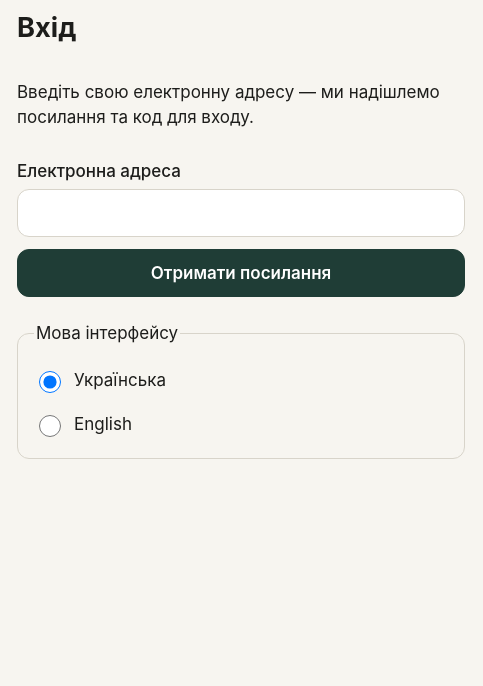
Test: sign-in › shows a localized error for a wrong code
The width and height of the screenshot is (483, 686).
Type "expert@example.com" into the field labelled "Електронна адреса" at {"x": 241, "y": 213}, box [17, 189, 465, 237]
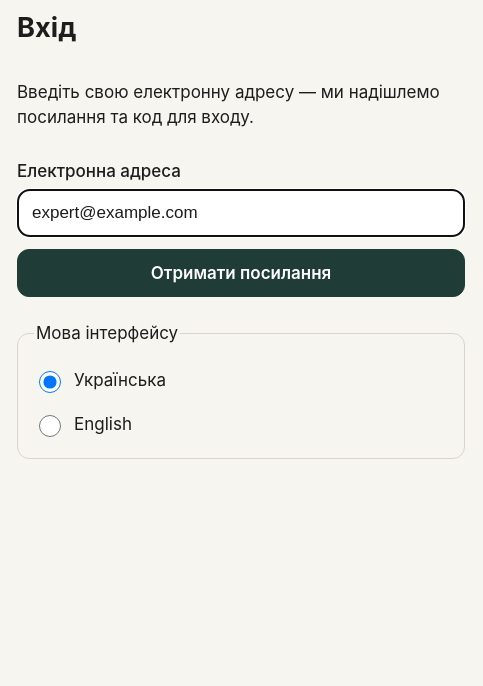
Click the button "Отримати посилання" at {"x": 241, "y": 273}, box [17, 249, 465, 297]
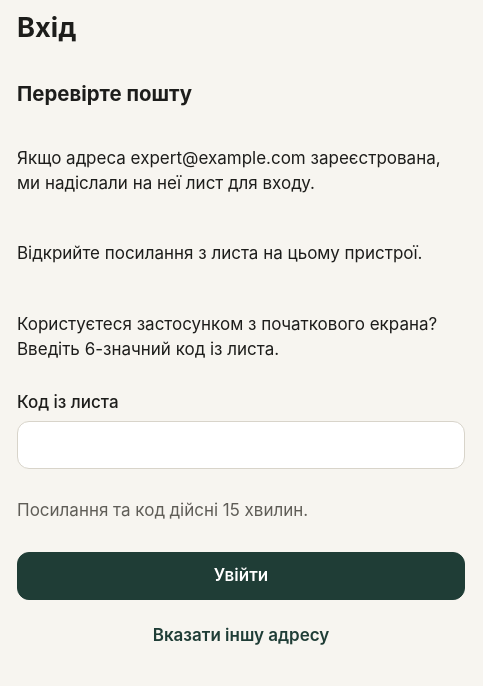
Type "000000" into the field labelled "Код із листа" at {"x": 241, "y": 445}, box [17, 421, 465, 469]
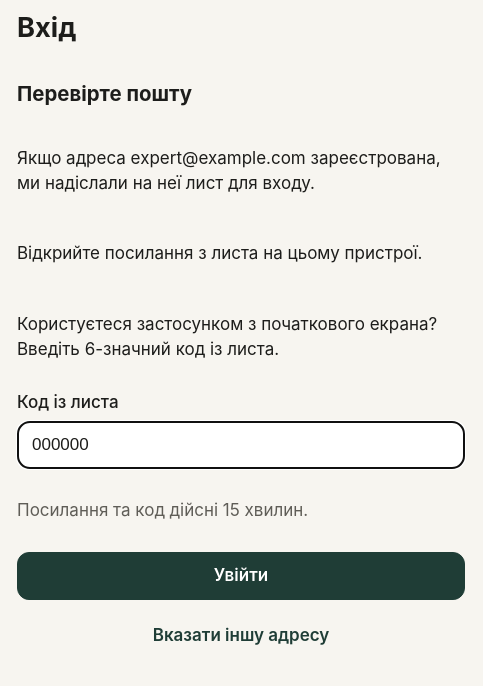
Click the button "Увійти" at {"x": 241, "y": 576}, box [17, 552, 465, 600]
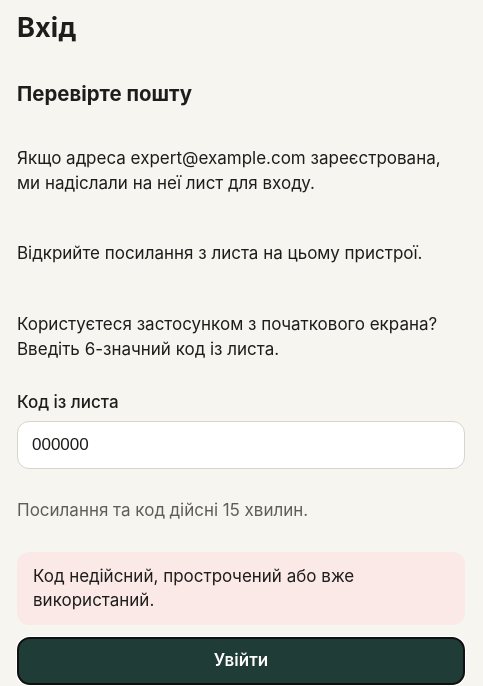
expect the message reads "Код недійсний, прострочений або вже використаний.": met, box [33, 566, 354, 610]
